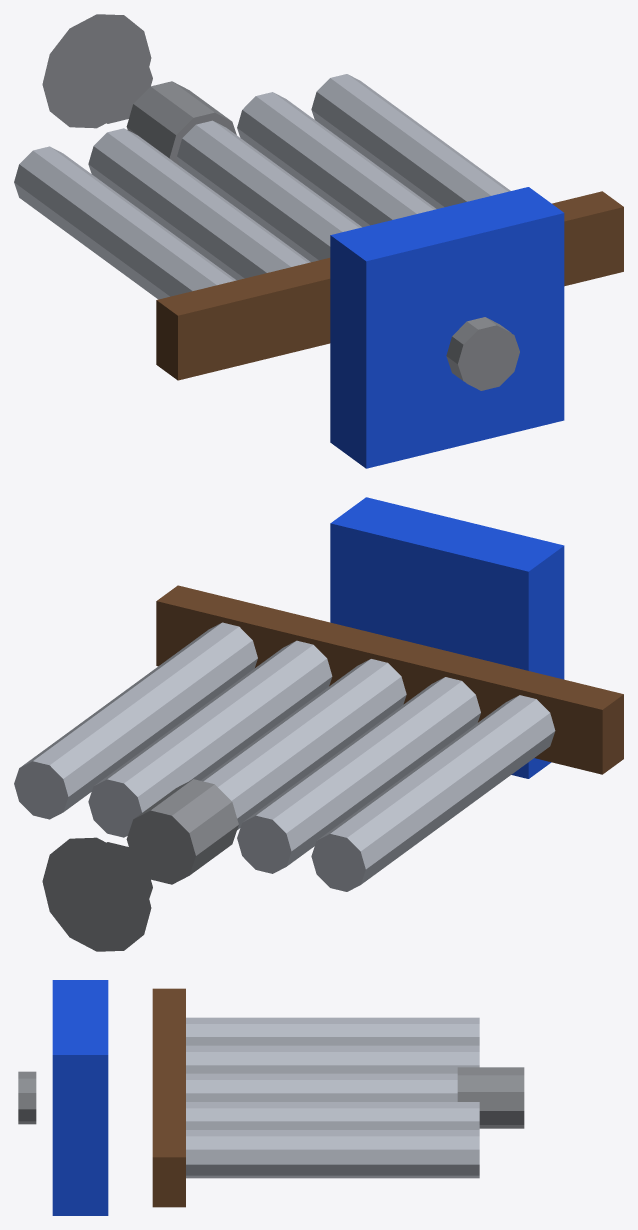
The model's file is SM_WindChime_Blue.obj.
The picture shows the model from 3 angles, top to bottom: view 1: azimuth 30°, elevation 25°; view 2: azimuth 150°, elevation 25°; view 3: azimuth 270°, elevation 25°; orthographic projection. The views are drawn at different scales.
Parts seen in each view (by area): view 1: mesh; view 2: mesh; view 3: mesh.
Boxes of the visible parts, x1=… form: mesh: x1=14, y1=14, x2=623, y2=468; mesh: x1=14, y1=497, x2=623, y2=951; mesh: x1=18, y1=980, x2=524, y2=1215.
Size of the model in its own units: 18 by 8 by 27.5.
